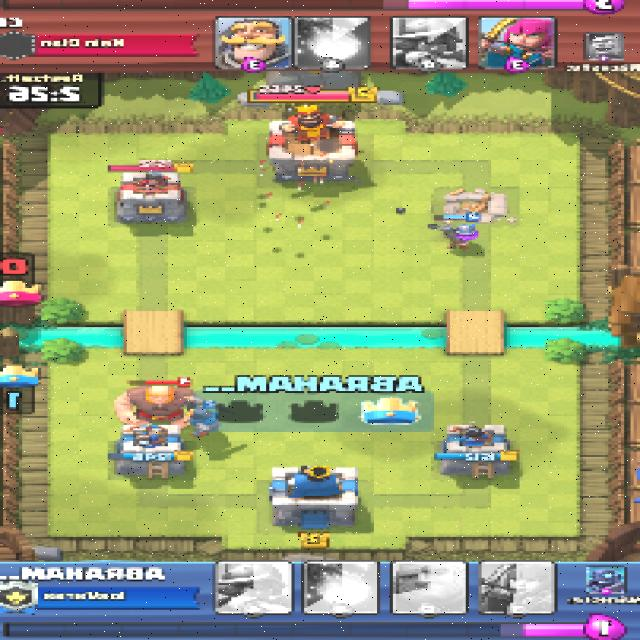Enemy-Giant: (116, 382, 205, 428)
Player-Knight: (187, 397, 222, 437)
Player-Musketeer: (437, 221, 481, 252)
